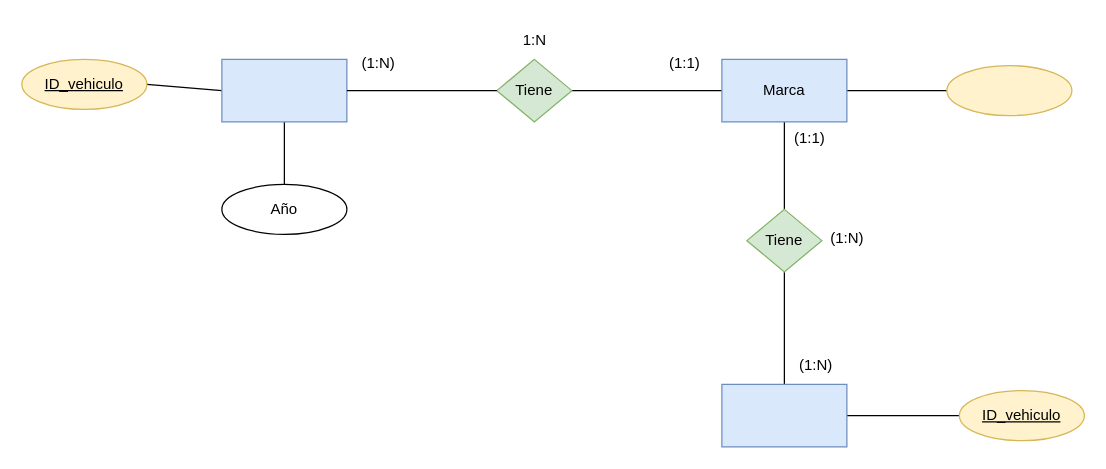
Image size: 1106x469. Some labels were removed from this diagram. The shapes that lost their labels are listed below. From the top down, each one's centre as x and y in pixels, then its label:
At point (284, 90): "Vehiculo".
At point (1009, 90): "ID_Marca".
At point (784, 415): "Modelo".
